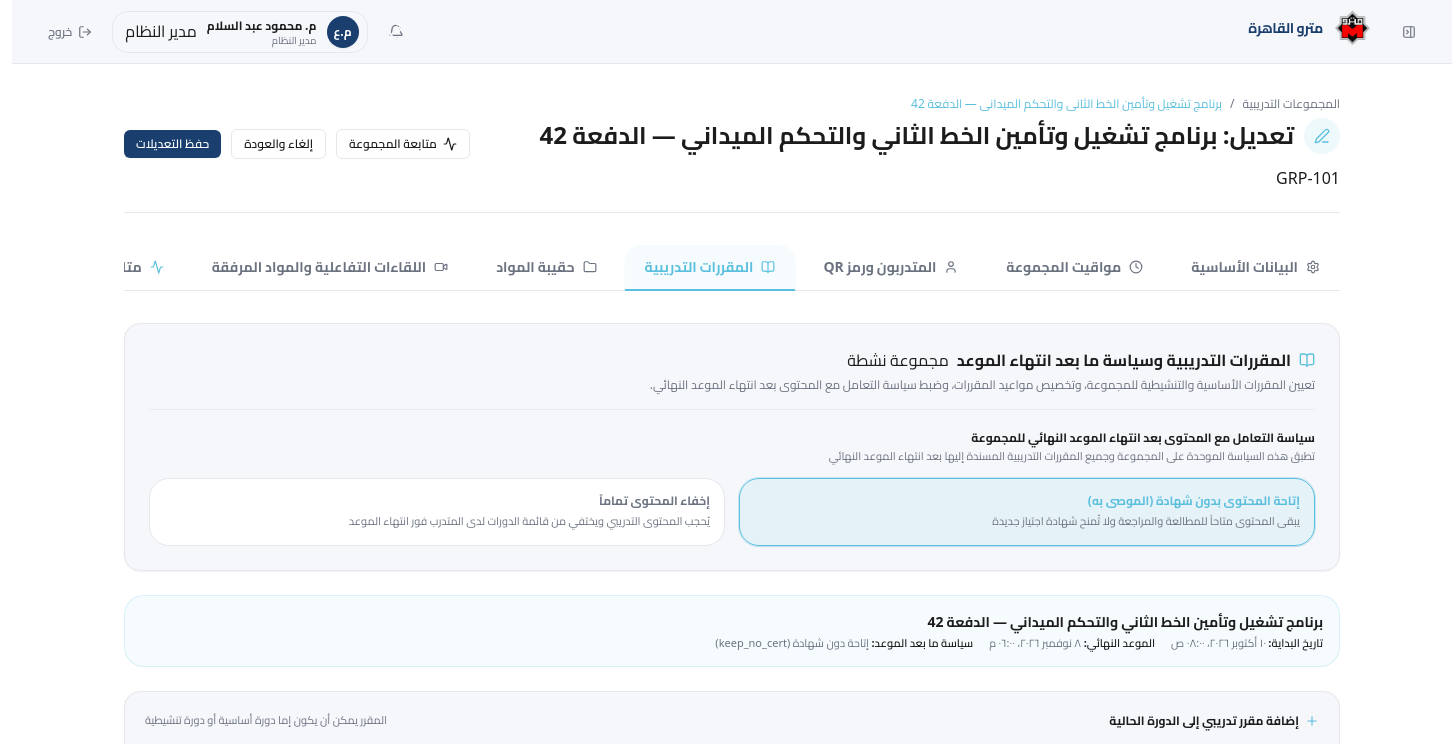
Test case: Increment 10 — Phase 5: Course Assignment, Renewal Schedules & Date Overrides › 5. Group-Wide Post-Deadline Policy & Archived Read-Only State › updates the single group-wide post-deadline policy in the courses tab and persists to store
The width and height of the screenshot is (1452, 744).
# Switch to hide
Click the button with test id "post-deadline-hide". click: (437, 512)
box: [149,478,725,546]
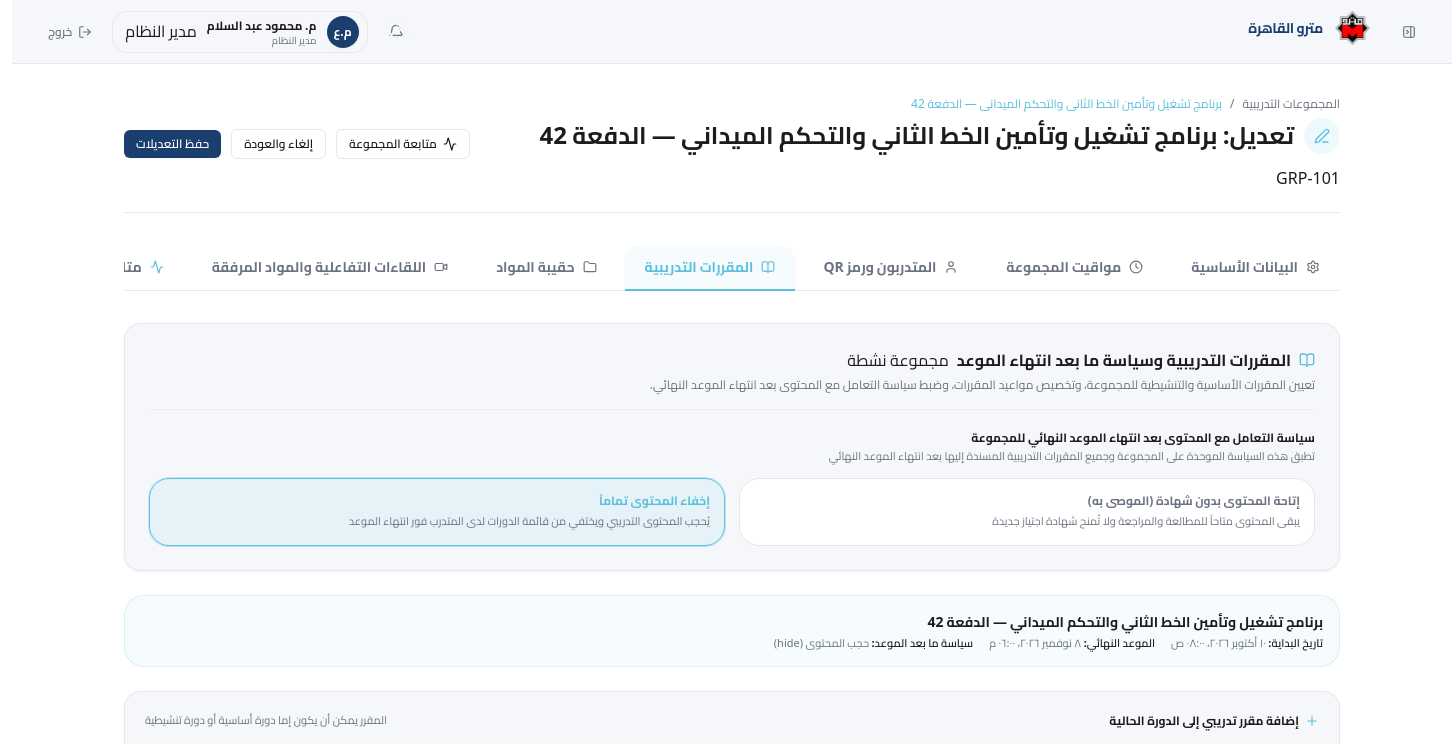
# Verify schedule tab does NOT render duplicate post-deadline policy controls
Click the button with test id "tab-schedule". click: (1075, 268)
box: [986,245,1163,291]
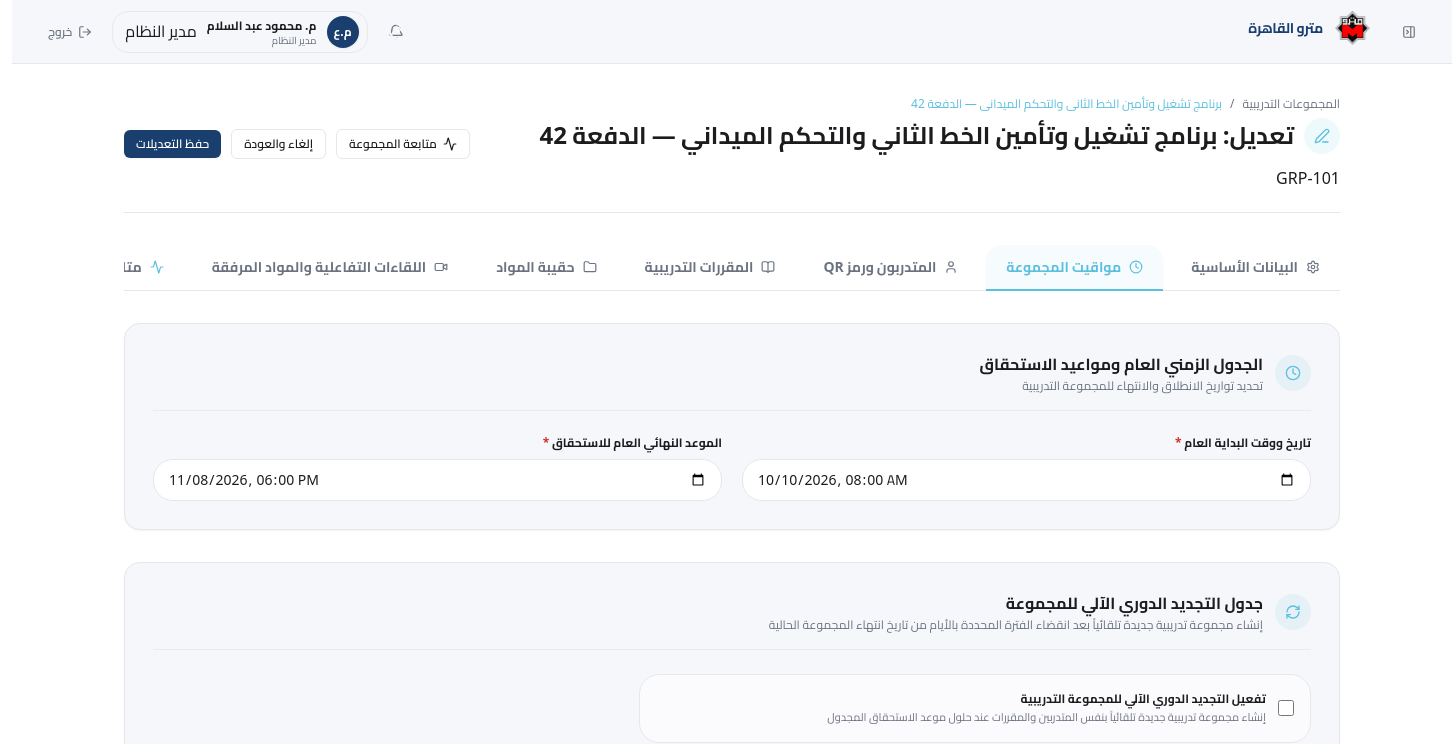
Result: the field with test id "group-start-input" is shown at [742,459,1311,501]
Result: the button with test id "post-deadline-keep_no_cert" is gone
Result: the button with test id "post-deadline-hide" is gone
